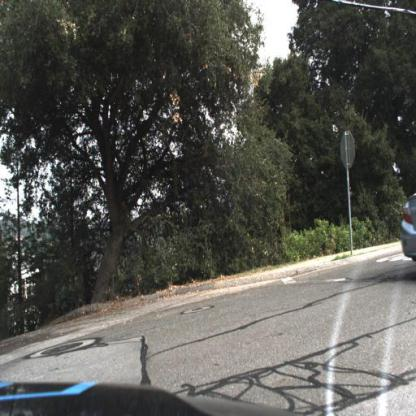car: (398, 179, 416, 272)
